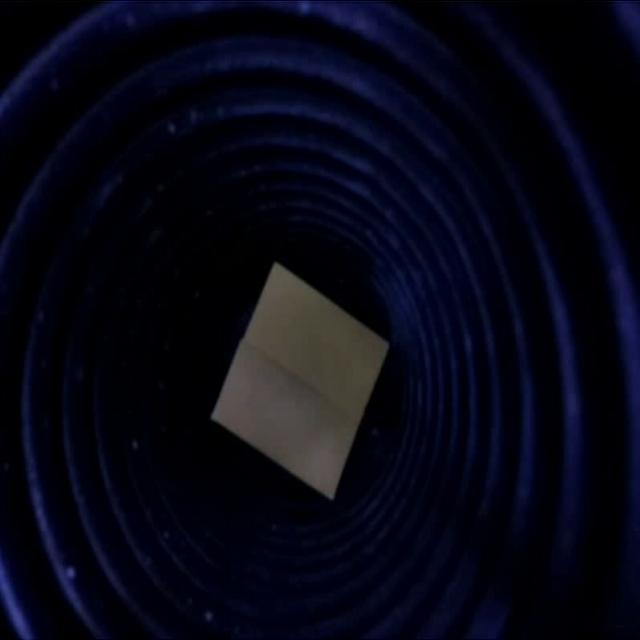obstacles: (215, 261, 388, 503)
